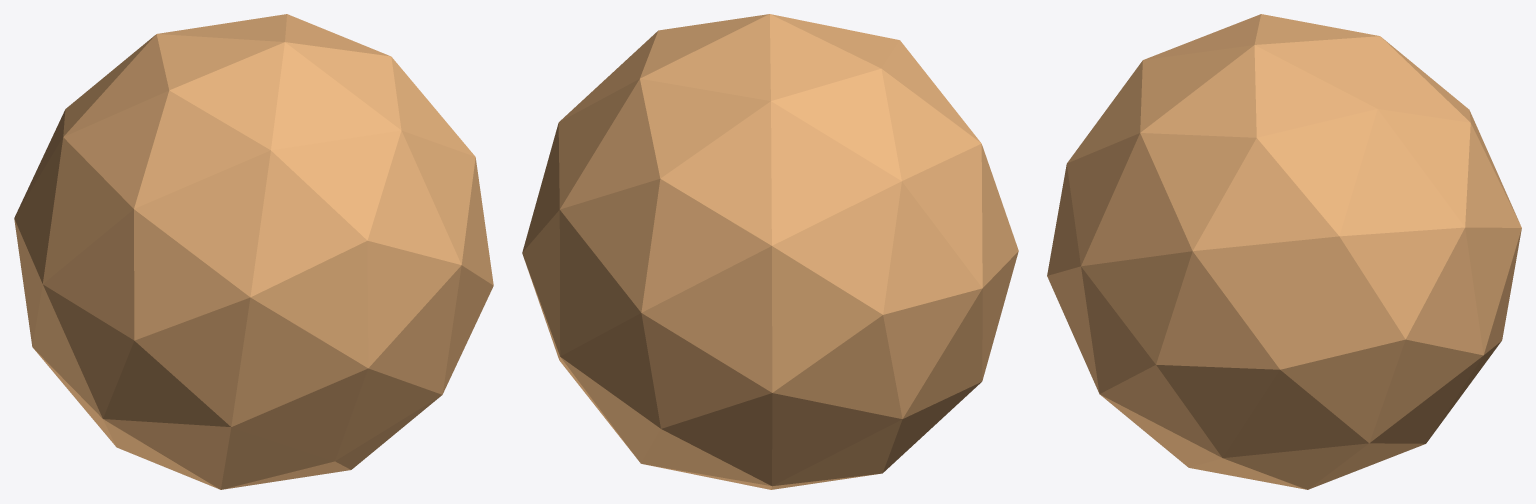
Rendered from BlenderBall.glb.
3 renders of one model, left to right at view 1: azimuth 30°, elevation 25°; view 2: azimuth 150°, elevation 25°; view 3: azimuth 270°, elevation 25°, orthographic. The views are drawn at different scales.
Visible parts, largest first — view 1: Icosphere, Icosphere.001; view 2: Icosphere, Icosphere.001; view 3: Icosphere.001, Icosphere.
Part boxes in pixels (bbox=[...]): Icosphere: bbox=[14, 90, 493, 489]; Icosphere.001: bbox=[63, 14, 475, 156]; Icosphere: bbox=[522, 40, 1018, 489]; Icosphere.001: bbox=[522, 14, 901, 356]; Icosphere.001: bbox=[1140, 14, 1521, 369]; Icosphere: bbox=[1047, 60, 1521, 489].
Bounding box in the file's own units: 1.99 × 1.98 × 1.98.
